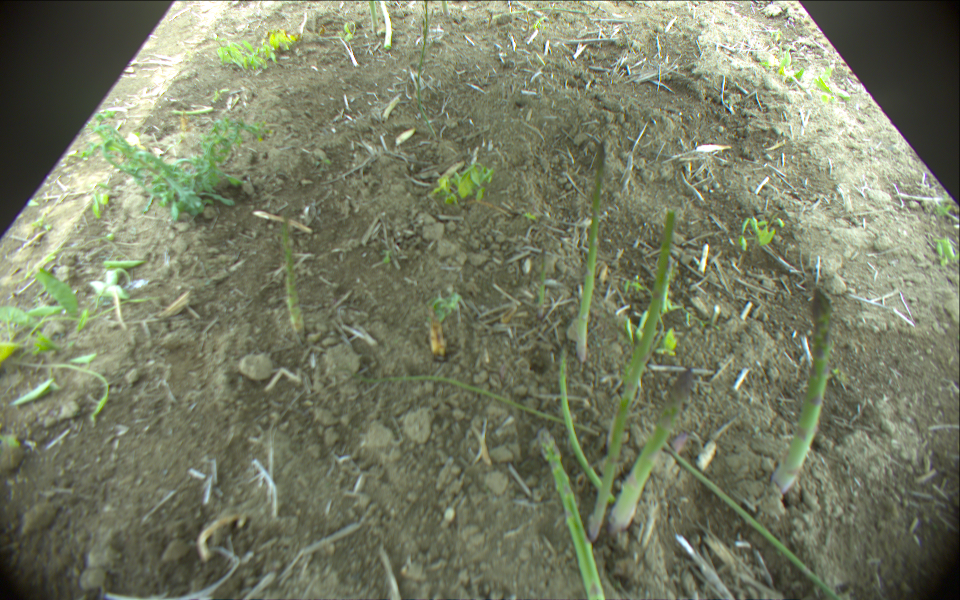aspa: (584, 205, 675, 542), (664, 439, 839, 600), (607, 366, 695, 537), (773, 286, 836, 491), (535, 430, 608, 600), (558, 345, 615, 506), (576, 133, 611, 359), (281, 215, 307, 339), (415, 1, 436, 103), (377, 1, 392, 50), (366, 1, 379, 36), (441, 1, 452, 18)
